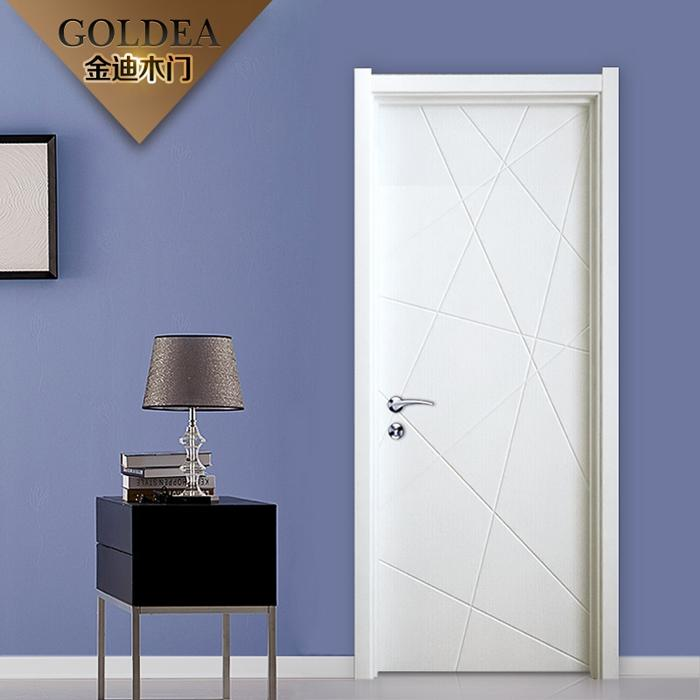door: (377, 98, 594, 672)
